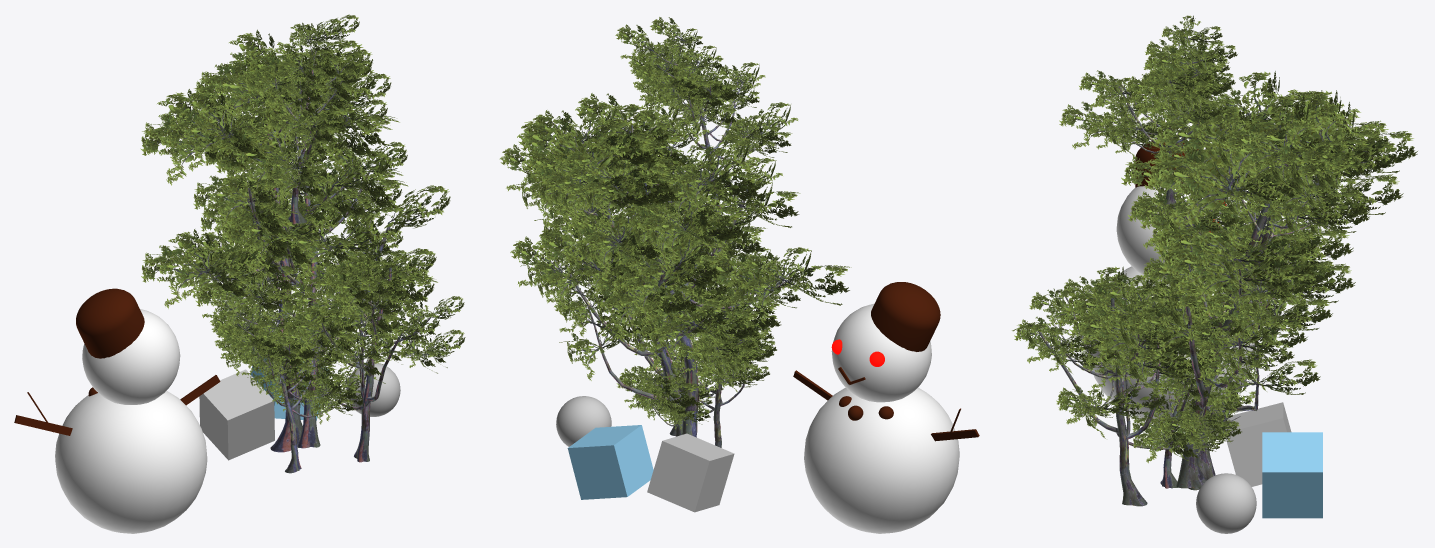
Rendered from Christheme.fbx.
3 renders of one model, left to right at view 1: azimuth 30°, elevation 25°; view 2: azimuth 150°, elevation 25°; view 3: azimuth 270°, elevation 25°, orthographic. The views are drawn at different scales.
Visible parts, largest first — view 1: Tree9_4, Tree9_2__1_, Sphere_1, Tree9_3, Tree9_5, Tree9_5__1_, Sphere__1_, Cube__1_, Capsule, Sphere, Tree9_2, Cube; view 2: Tree9_4, Tree9_2__1_, Sphere_1, Tree9_5, Tree9_5__1_, Sphere__1_, Cube, Cube__1_, Capsule, Tree9_3, Tree9_2, Sphere; view 3: Tree9_4, Tree9_2__1_, Tree9_3, Tree9_5, Cube, Tree9_5__1_, Sphere, Cube__1_, Sphere_1, Sphere__1_, Tree9_2, Capsule.
Boxes of the visible parts, <box> form: Tree9_4: <box>140,29,450,452</box>; Tree9_2__1_: <box>160,73,408,448</box>; Sphere_1: <box>55,390,207,533</box>; Tree9_3: <box>260,248,465,462</box>; Tree9_5: <box>247,14,371,223</box>; Tree9_5__1_: <box>199,277,376,473</box>; Sphere__1_: <box>82,309,180,404</box>; Cube__1_: <box>199,369,274,460</box>; Capsule: <box>76,288,144,358</box>; Sphere: <box>346,363,400,416</box>; Tree9_2: <box>266,348,336,411</box>; Cube: <box>251,357,328,420</box>; Tree9_4: <box>517,93,851,437</box>; Tree9_2__1_: <box>499,133,781,436</box>; Sphere_1: <box>804,387,959,533</box>; Tree9_5: <box>615,17,798,214</box>; Tree9_5__1_: <box>616,288,777,447</box>; Sphere__1_: <box>831,303,931,402</box>; Cube: <box>567,425,653,499</box>; Cube__1_: <box>647,433,734,512</box>; Capsule: <box>871,282,940,351</box>; Tree9_3: <box>609,213,778,435</box>; Tree9_2: <box>631,366,710,429</box>; Sphere: <box>556,396,611,446</box>; Tree9_4: <box>1121,71,1417,490</box>; Tree9_2__1_: <box>1140,135,1403,488</box>; Tree9_3: <box>1012,266,1255,506</box>; Tree9_5: <box>1059,15,1237,214</box>; Cube: <box>1262,432,1322,518</box>; Tree9_5__1_: <box>1132,267,1243,488</box>; Sphere: <box>1196,473,1256,533</box>; Cube__1_: <box>1225,402,1291,486</box>; Sphere_1: <box>1087,266,1254,424</box>; Sphere__1_: <box>1116,186,1224,281</box>; Tree9_2: <box>1176,385,1250,456</box>; Capsule: <box>1135,139,1198,187</box>.
Bounding box in the file's own units: 2293 × 2292 × 1696.
